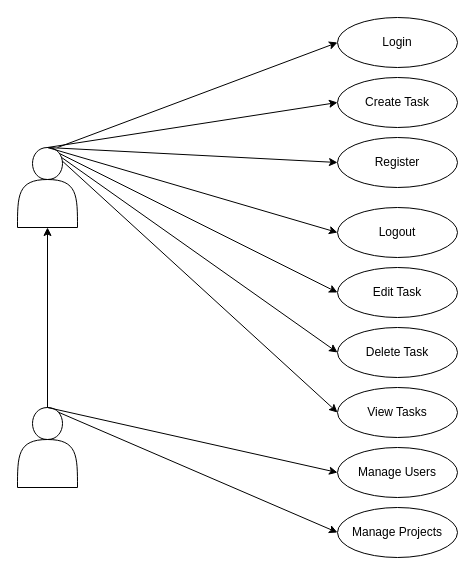
This 475x575 diagram has some shape labels left out. The box of each missing label's shape, as (x1, y1, x2, y2) in pixels:
Admin User: (16, 406, 78, 488)
Regular User: (16, 146, 78, 228)
